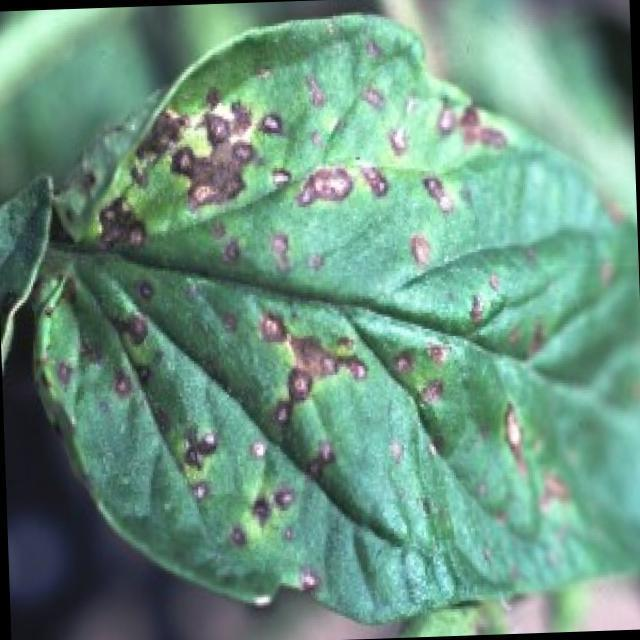Septoria: (45, 61, 596, 576)
